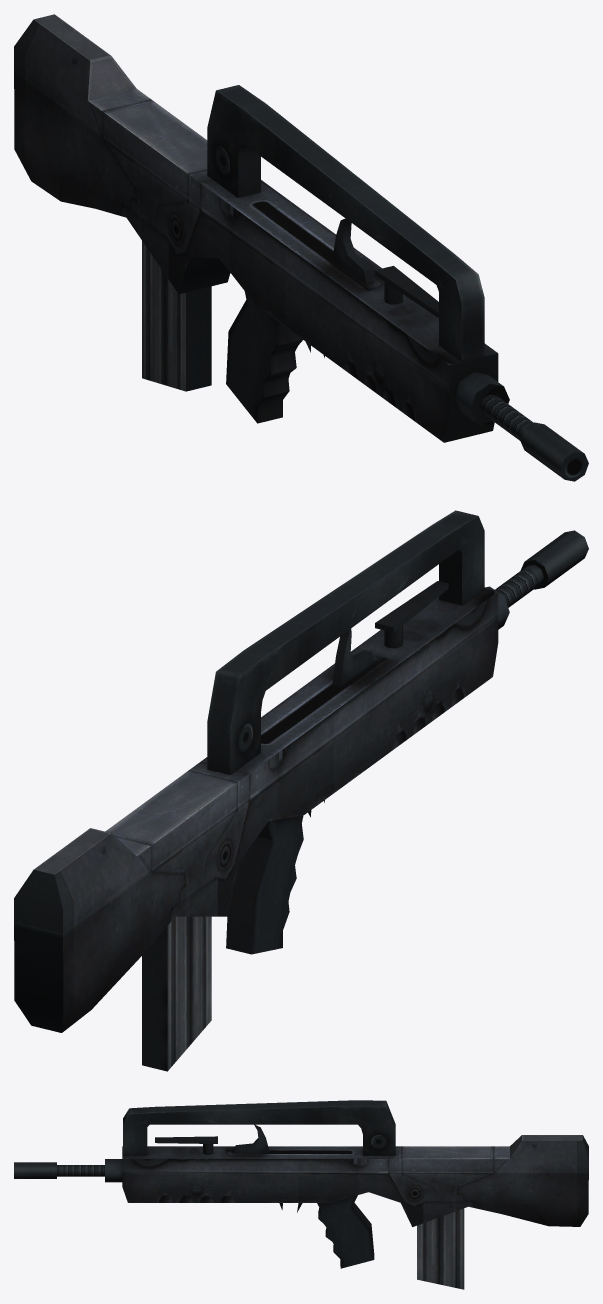
File: famas.FBX
3 views of the same model, one above another, from view 1: azimuth 30°, elevation 25°; view 2: azimuth 150°, elevation 25°; view 3: azimuth 270°, elevation 25° (orthographic). The views are drawn at different scales.
Visible parts, largest first — view 1: SMDImporter.Mesh.w_rif_famas; view 2: SMDImporter.Mesh.w_rif_famas; view 3: SMDImporter.Mesh.w_rif_famas.
Boxes of the visible parts, x1,y1,x2,y2 form: SMDImporter.Mesh.w_rif_famas: [14, 14, 588, 481]; SMDImporter.Mesh.w_rif_famas: [14, 510, 588, 1071]; SMDImporter.Mesh.w_rif_famas: [14, 1100, 588, 1289].
Bounding box in the file's own units: 4.73 × 31.54 × 89.69.
